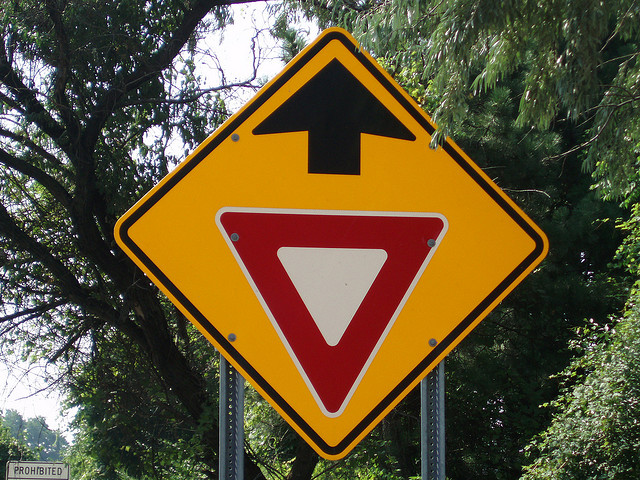yield_sign: (133, 36, 537, 448)
